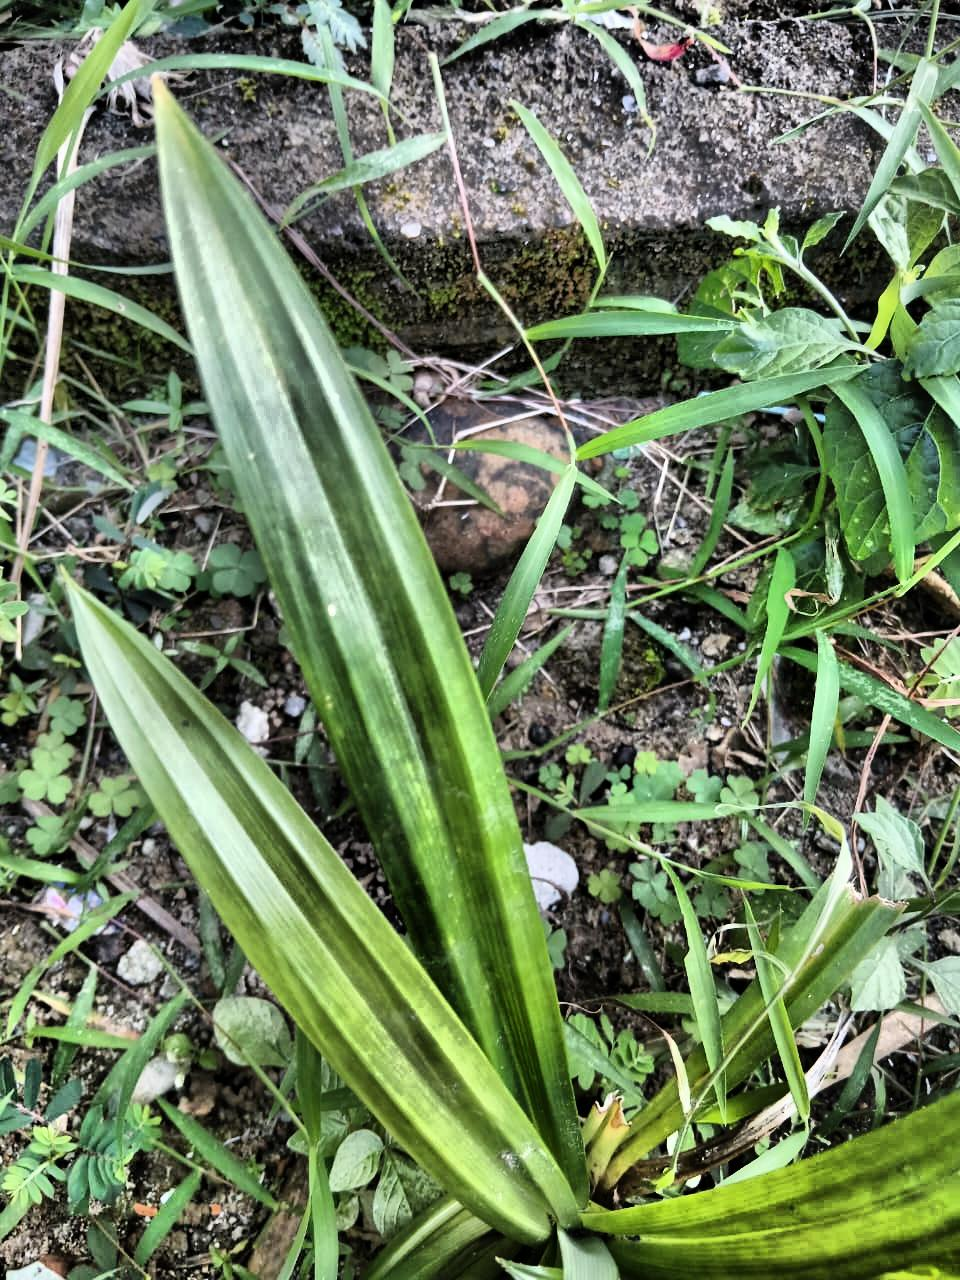daun pandan: (66, 81, 959, 1279)
